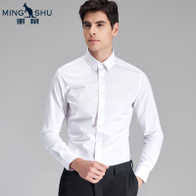F_shirt: (45, 48, 165, 182)
